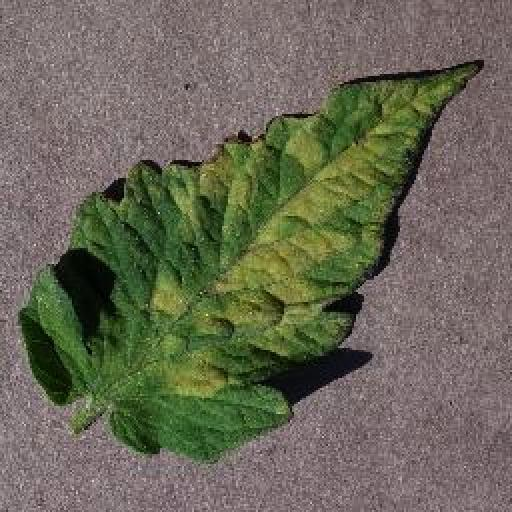disease_tomato: (19, 59, 480, 469)
